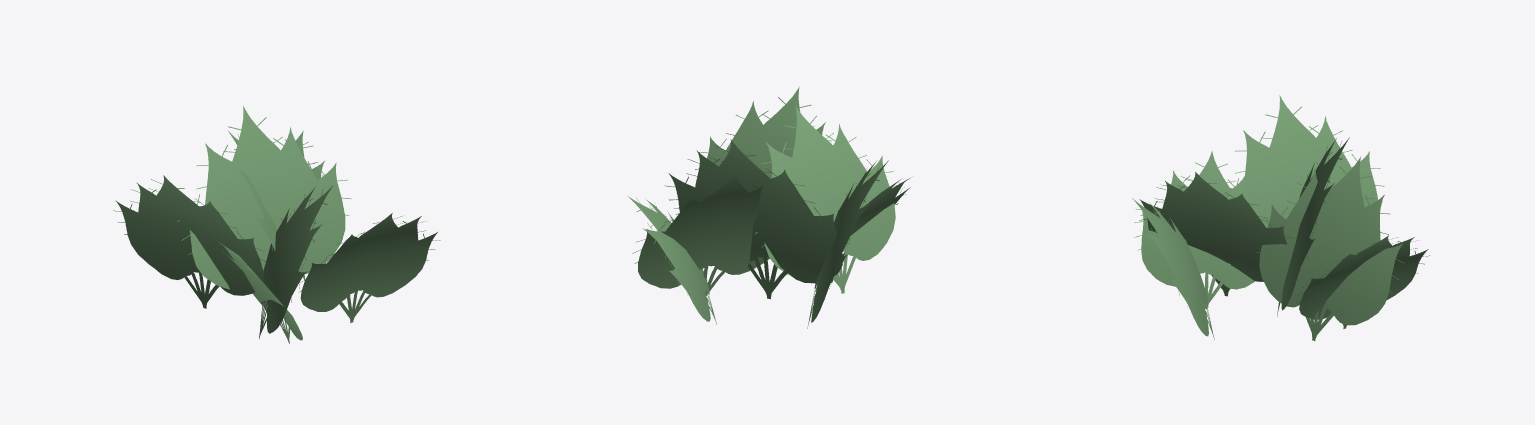
The model's file is CTCC_ENV_TropicalShrub.fbx.
The picture shows the model from 3 angles, left to right: view 1: azimuth 30°, elevation 25°; view 2: azimuth 150°, elevation 25°; view 3: azimuth 270°, elevation 25°; orthographic projection. The views are drawn at different scales.
Visible parts, largest first — view 1: CTCC_ENV_TropicalShrub; view 2: CTCC_ENV_TropicalShrub; view 3: CTCC_ENV_TropicalShrub.
Part boxes in pixels (x1=…): CTCC_ENV_TropicalShrub: x1=113, y1=105, x2=440, y2=343; CTCC_ENV_TropicalShrub: x1=628, y1=86, x2=911, y2=328; CTCC_ENV_TropicalShrub: x1=1132, y1=95, x2=1429, y2=340.
Size of the model in its own units: 1.45 by 0.8936 by 1.52.
